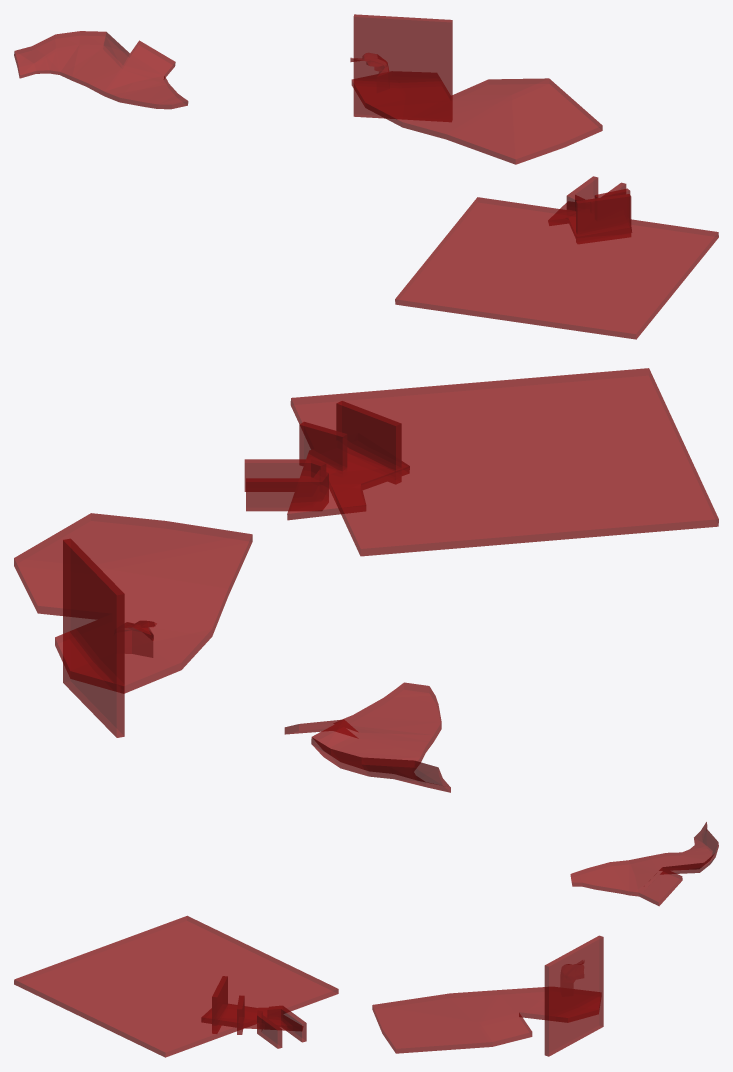
Rendered from _death.obj.
3 views of the same model, one above another, from view 1: azimuth 30°, elevation 25°; view 2: azimuth 150°, elevation 25°; view 3: azimuth 270°, elevation 25° (orthographic). The views are drawn at different scales.
Bounding box in the file's own units: 645 × 147 × 1047.
